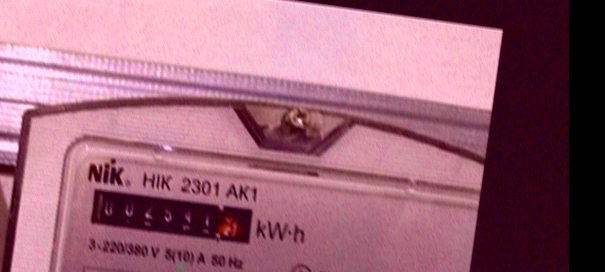0: (100, 193, 116, 216), (121, 194, 136, 217)
1: (199, 206, 213, 227)
2: (141, 198, 155, 219)
4: (180, 202, 195, 225)
5: (159, 200, 174, 223)
6: (220, 221, 233, 237)
screen: (78, 176, 265, 254)
